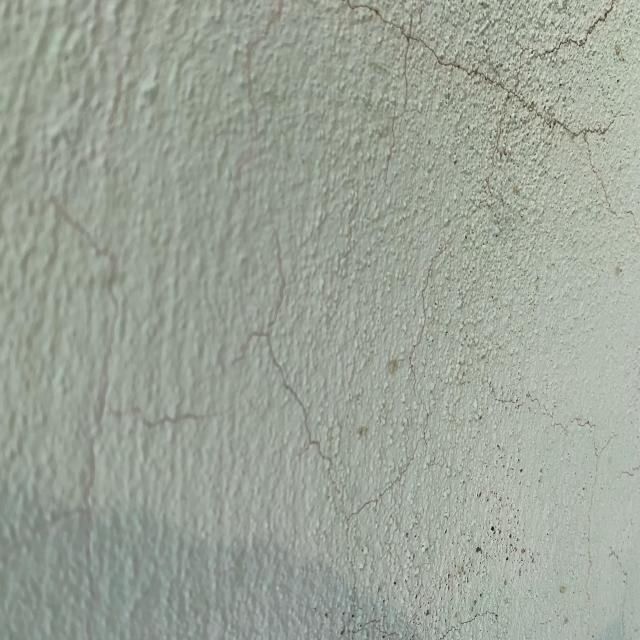diagonal crack: (512, 0, 630, 72)
multi-branched crack: (20, 188, 640, 640), (318, 0, 640, 166)
vertical crack: (237, 0, 296, 146)
